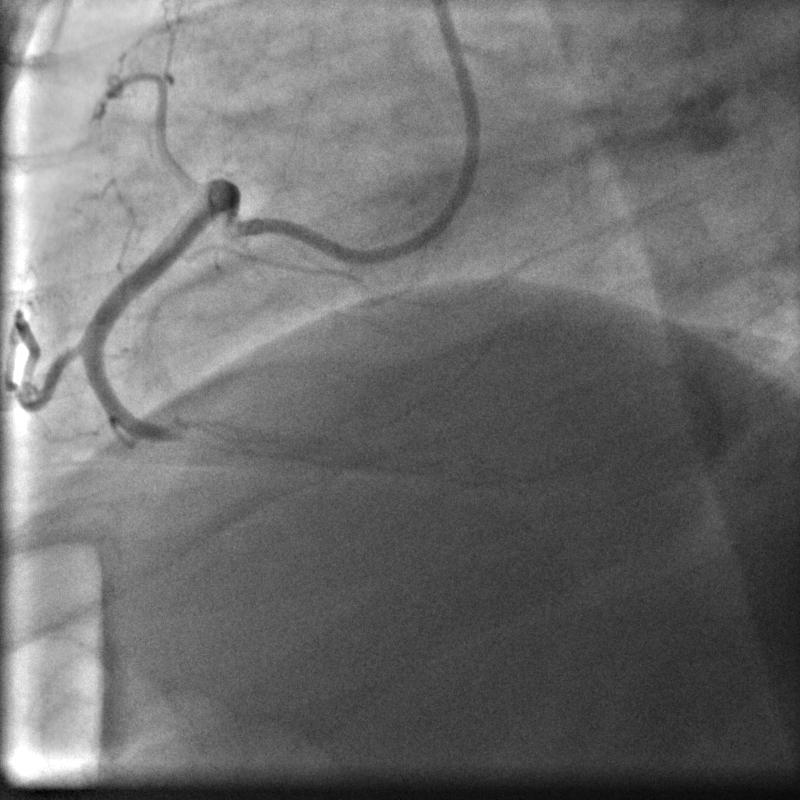Stenosis: (149, 417, 209, 448)
